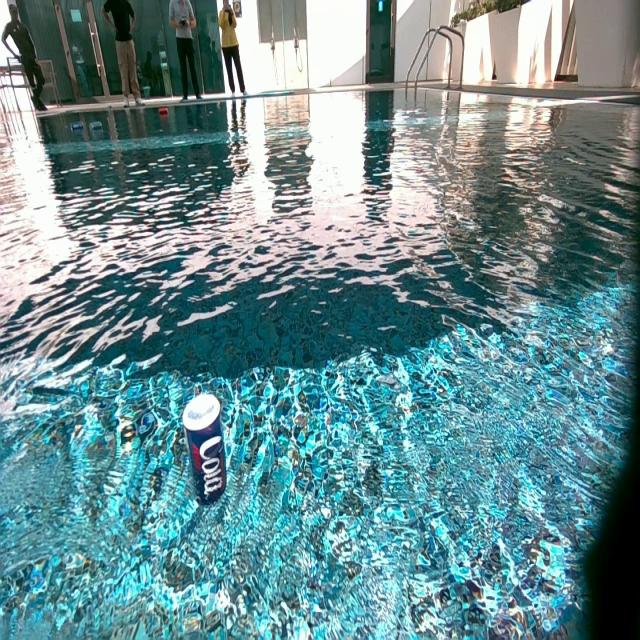Cans: (180, 390, 232, 510), (90, 120, 104, 131), (71, 120, 83, 132), (160, 108, 170, 117), (215, 101, 222, 111)
